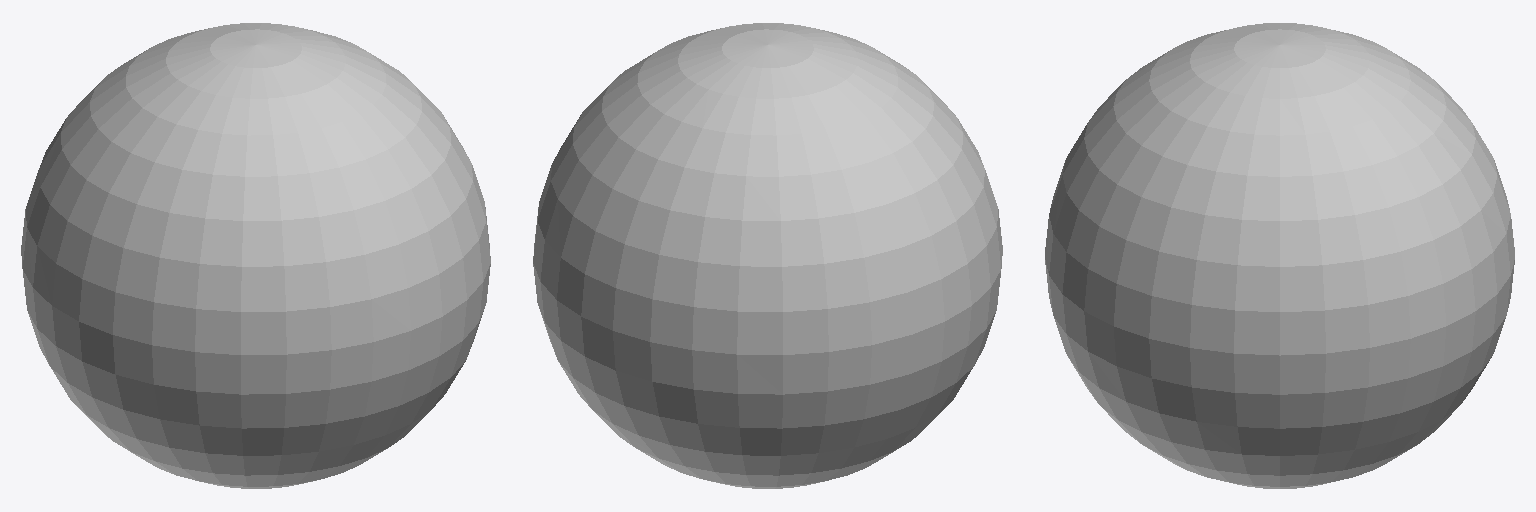
The model's file is Marble4.obj.
The picture shows the model from 3 angles: view 1: azimuth 30°, elevation 25°; view 2: azimuth 150°, elevation 25°; view 3: azimuth 270°, elevation 25°; orthographic projection.
Visible parts, largest first — view 1: Marble4; view 2: Marble4; view 3: Marble4.
Boxes of the visible parts, box(x1,y1,x2,y2) form: Marble4: box(21, 23, 490, 488); Marble4: box(533, 23, 1002, 488); Marble4: box(1045, 23, 1514, 488).
Bounding box in the file's own units: 0.015 × 0.0148 × 0.015.